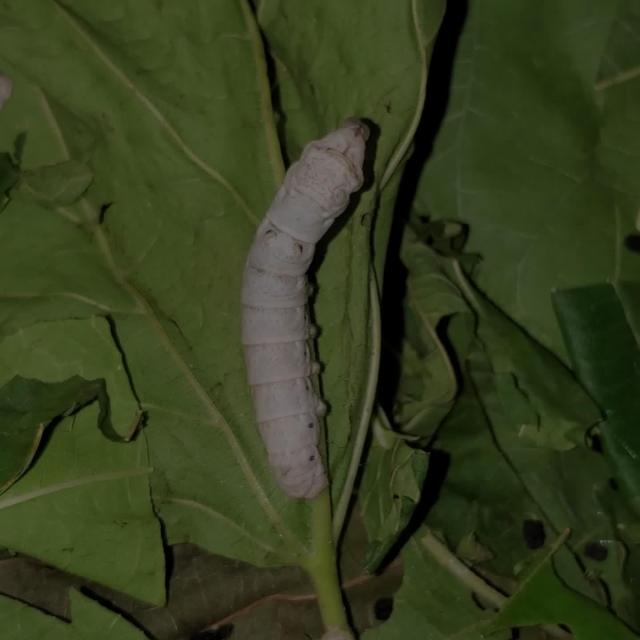Healthy: (217, 90, 410, 518)
